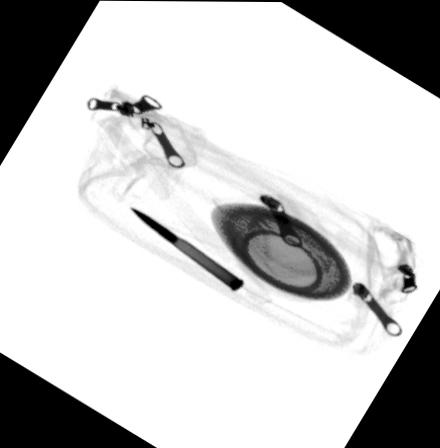Bullet: (127, 204, 243, 291)
